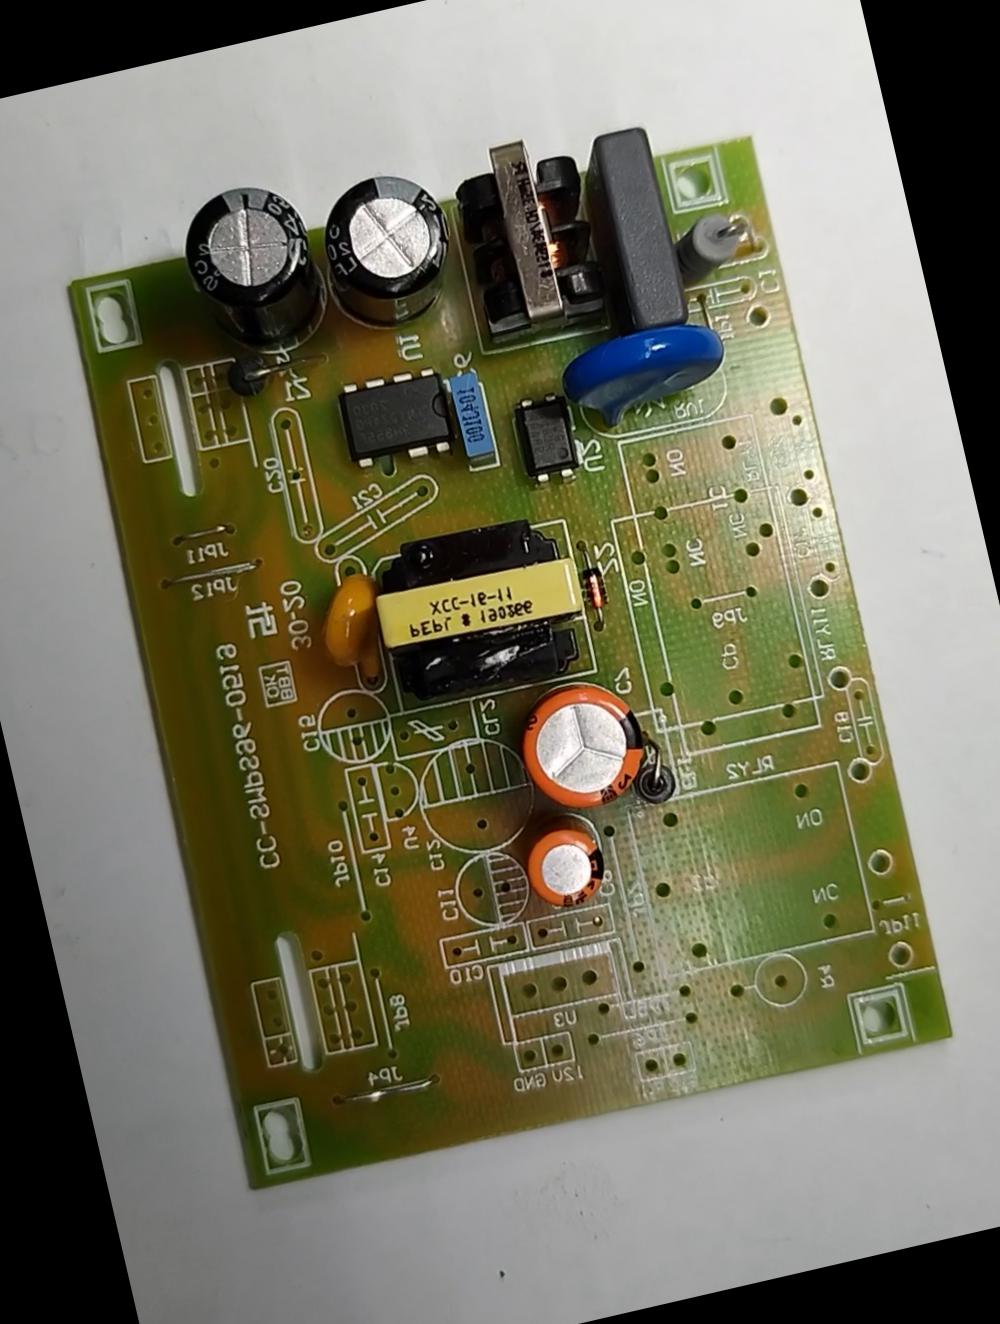Cap1: (511, 670, 655, 823)
Cap2: (523, 819, 612, 915)
Cap3: (304, 163, 464, 334)
Cap4: (175, 172, 341, 367)
MOSFET: (336, 359, 461, 471)
Mov: (557, 313, 739, 436)
Resistor: (669, 205, 757, 293)
Transformer: (363, 506, 593, 708), (441, 126, 617, 349)
